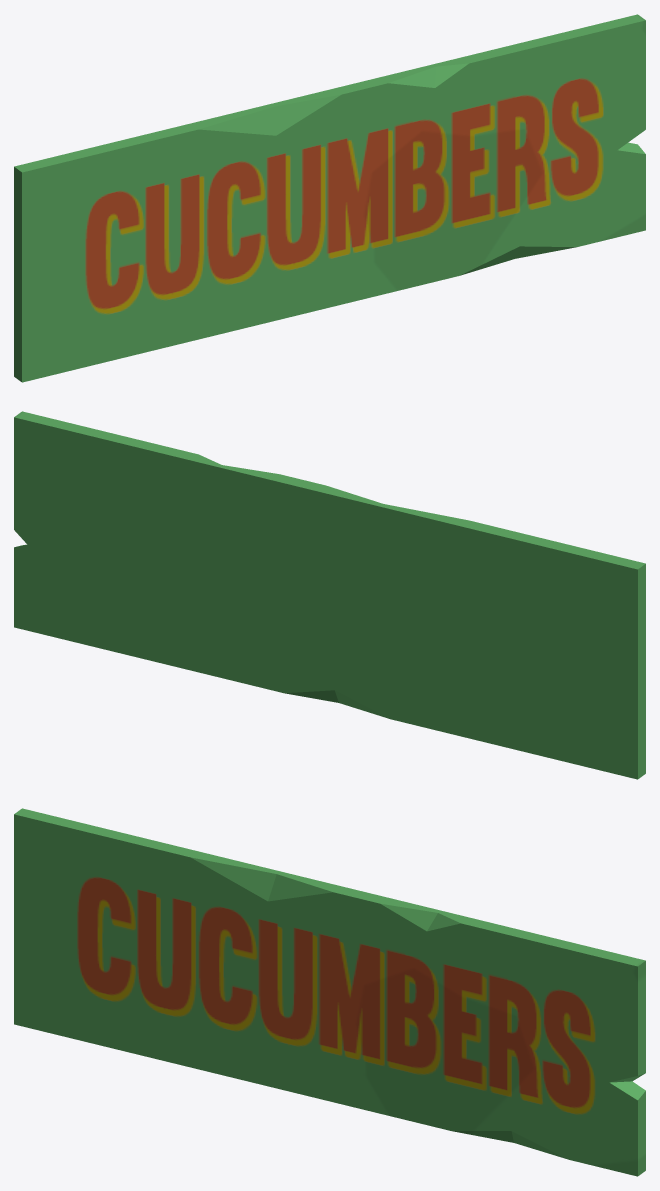
The model's file is SM_Prop_Sign_Cucumbers_01.fbx.
The picture shows the model from 3 angles, top to bottom: view 1: azimuth 30°, elevation 25°; view 2: azimuth 150°, elevation 25°; view 3: azimuth 330°, elevation 25°; orthographic projection.
Visible parts, largest first — view 1: SM_Prop_Sign_Cucumbers_01; view 2: SM_Prop_Sign_Cucumbers_01; view 3: SM_Prop_Sign_Cucumbers_01.
Boxes of the visible parts, <box> form: SM_Prop_Sign_Cucumbers_01: <box>14,14,645,382</box>; SM_Prop_Sign_Cucumbers_01: <box>14,411,645,779</box>; SM_Prop_Sign_Cucumbers_01: <box>14,808,645,1176</box>.
Bounding box in the file's own units: 106 × 34.18 × 2.41.
